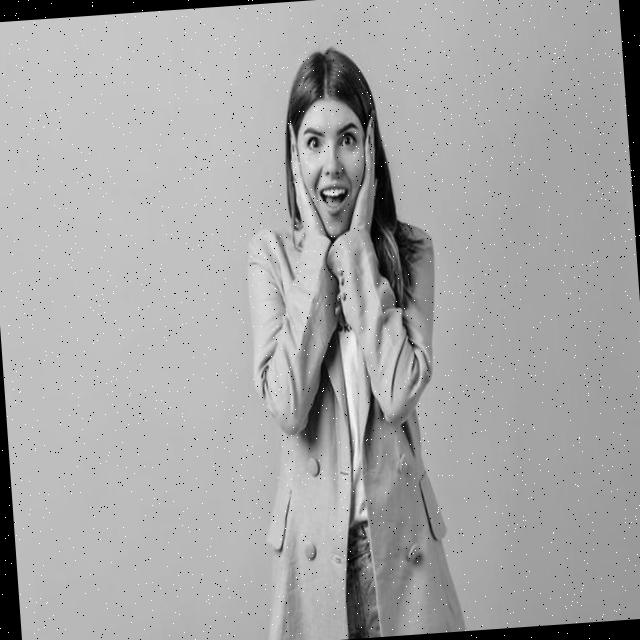Surprised: (294, 99, 372, 238)
